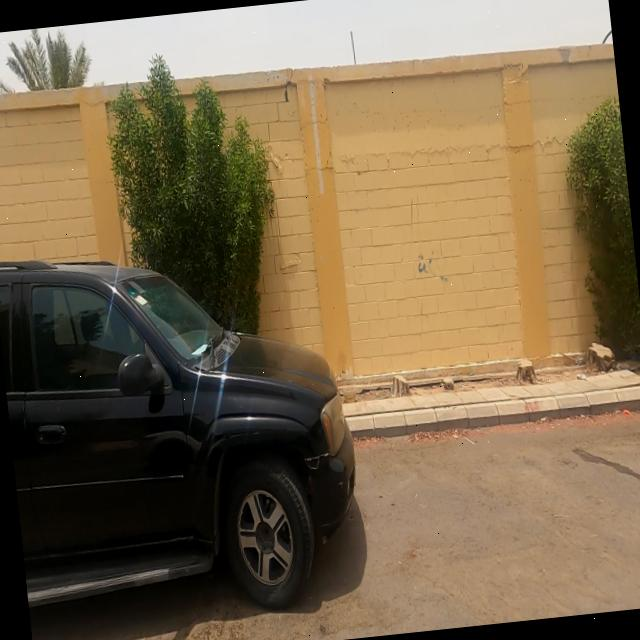Graffiti: (415, 251, 450, 287)
